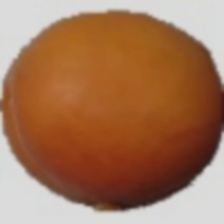apricot: (0, 14, 182, 189)
